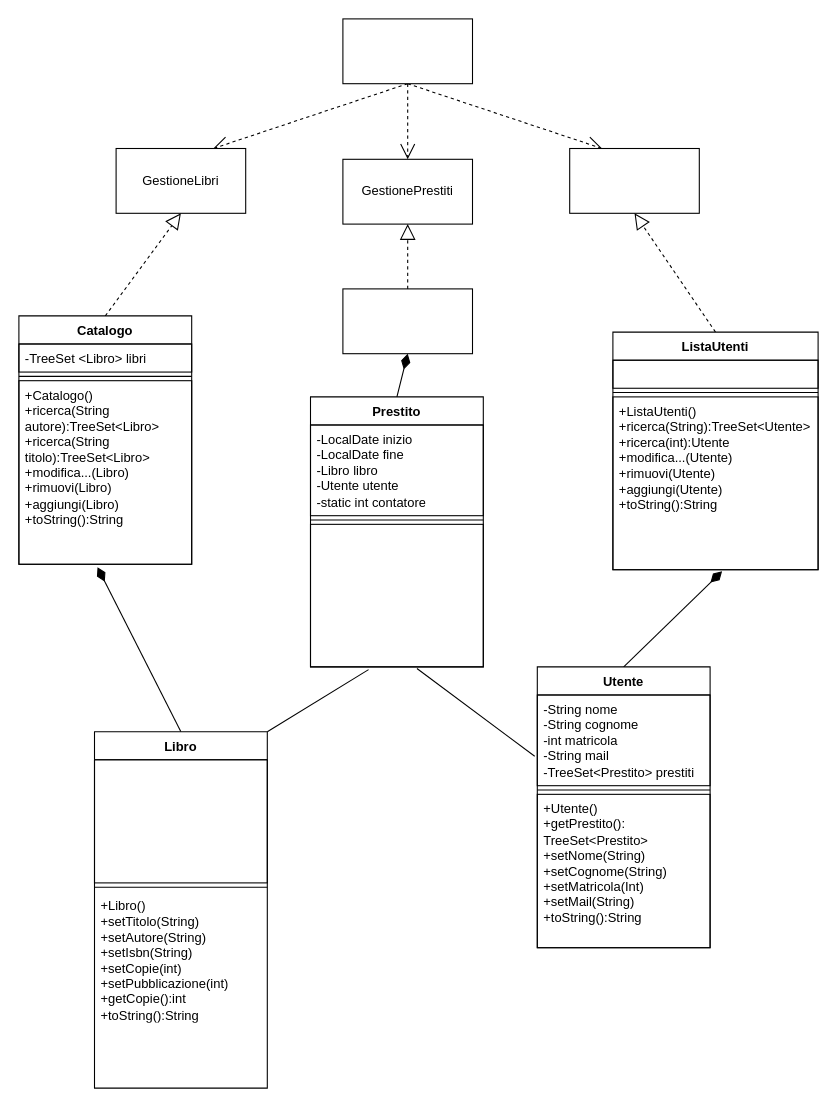
Some shapes in this 837 by 1110 pixel diagram are drawn without their labels. The shapes that lost their labels are listed below. From the top down, each one's box as (x1, y1, x2, y2) in pixels, then its label:
(342, 18, 473, 84): Interfaccia/Main
(569, 147, 699, 213): GestioneUtenti
(342, 288, 473, 354): ListaPrestiti
(612, 359, 818, 388): -TreeSet<Utenti>utenti
(309, 523, 483, 667): +Prestito() +isExpired():Boolean +getFine():LocalDate +toString():String
(93, 759, 267, 883): -String titolo -String autore -String ISBN -int copie -int pubblicazione
